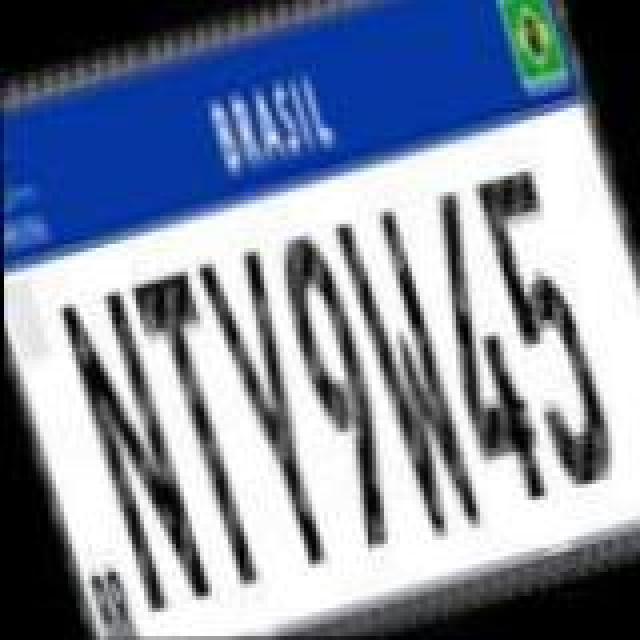4: (400, 178, 552, 518)
5: (470, 156, 626, 500)
9: (266, 216, 418, 556)
N: (56, 280, 216, 624)
T: (126, 260, 282, 596)
W: (322, 196, 486, 548)
Y: (192, 238, 348, 574)
